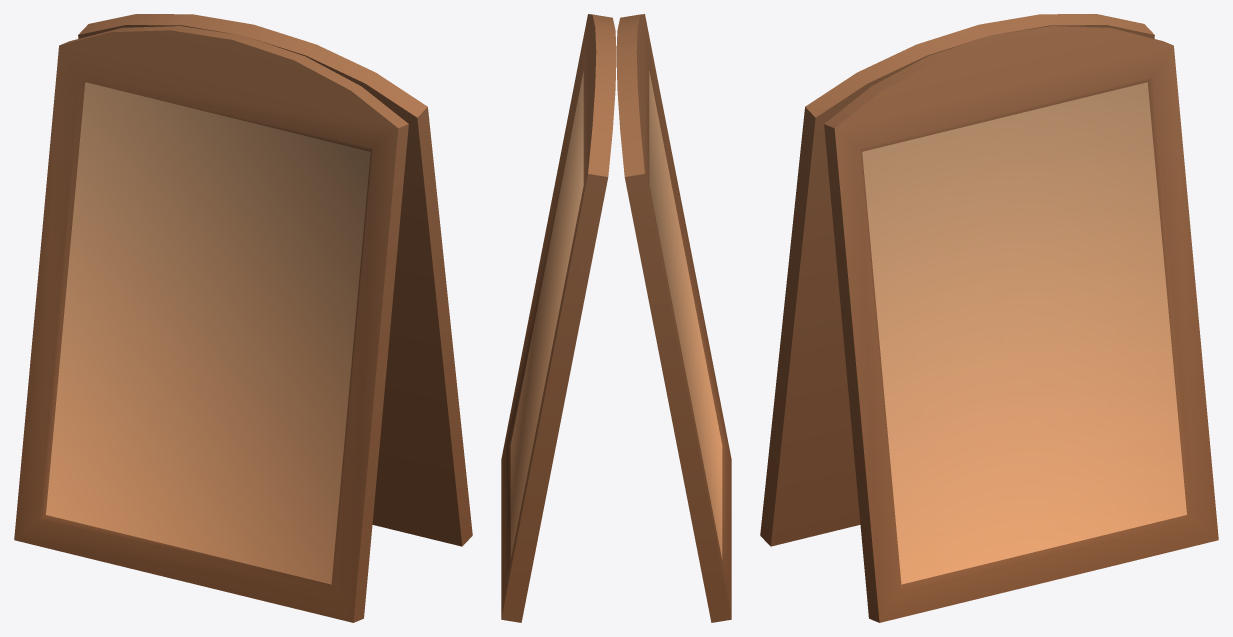
Rendered from Board.fbx.
The picture shows the model from 3 angles, left to right: view 1: azimuth 30°, elevation 25°; view 2: azimuth 150°, elevation 25°; view 3: azimuth 270°, elevation 25°; orthographic projection. The views are drawn at different scales.
Visible parts, largest first — view 1: board_003_001; view 2: board_003_001; view 3: board_003_001.
Part boxes in pixels (box(x1,y1,x2,y2)): board_003_001: box(14, 14, 472, 622); board_003_001: box(501, 14, 731, 622); board_003_001: box(760, 14, 1218, 622).
Bounding box in the file's own units: 2627 × 3664 × 2992.
